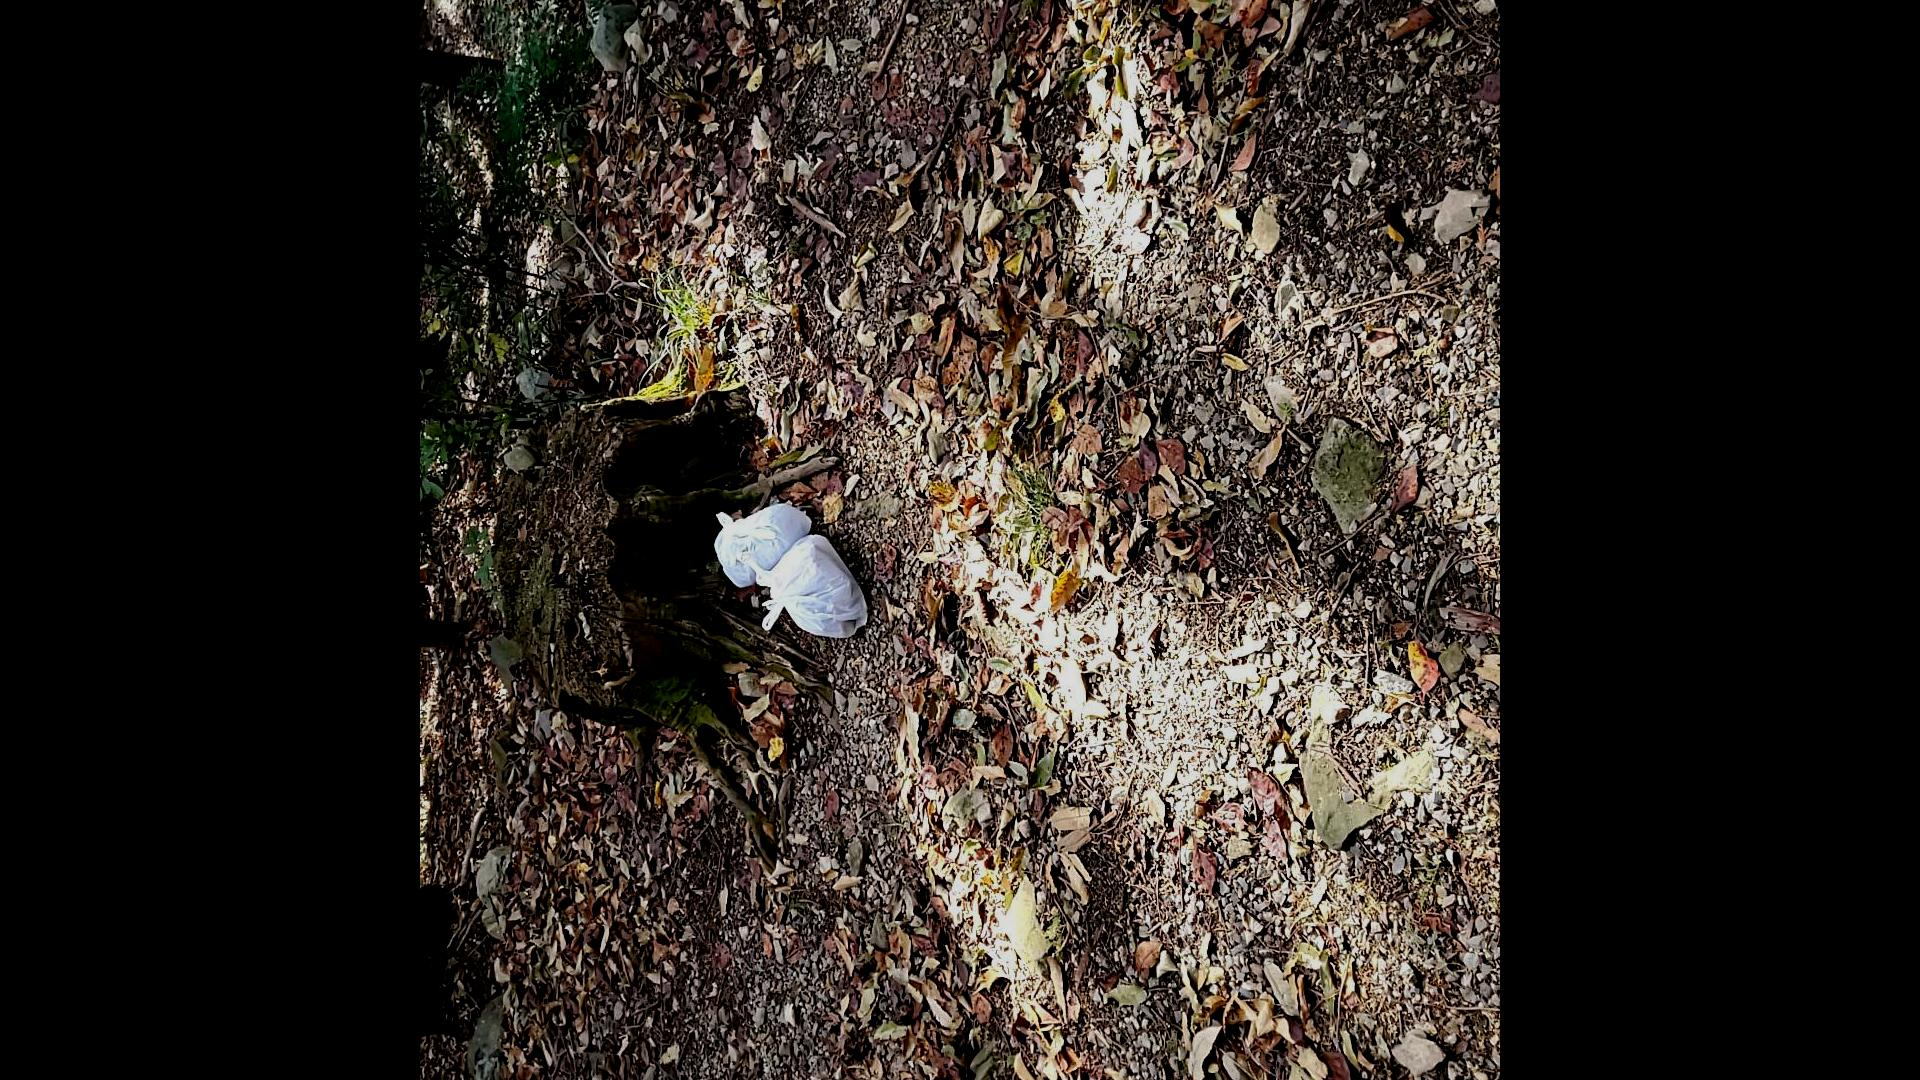white_bag: (756, 526, 872, 646), (705, 498, 812, 589)
